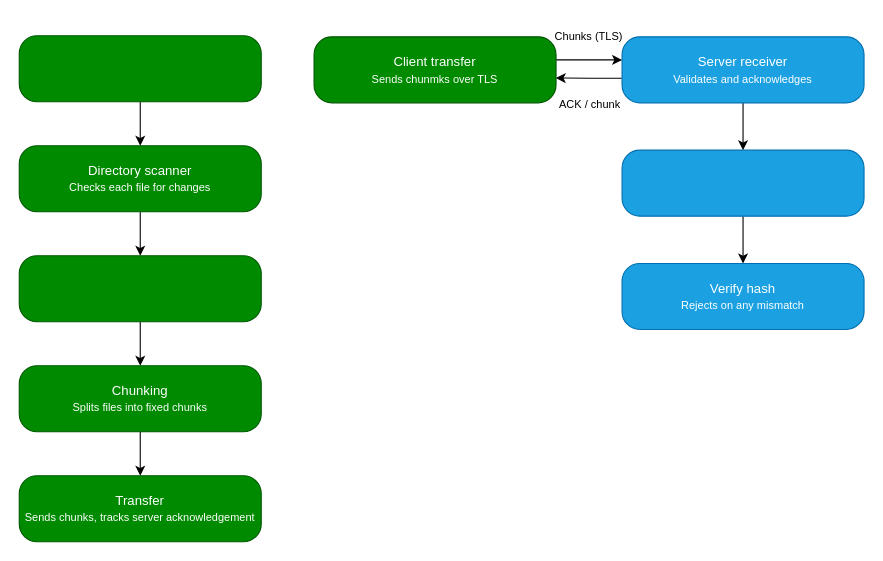
Image size: 883x561. Some labels were removed from this diagram. Here are the shapes that lost their labels. From the top down, the box of each, then its label:
(18, 35, 261, 102): Watched directories Folders being monitored
(621, 149, 864, 216): Reassemble file Combines all arrived chunks
(18, 255, 261, 322): Change detection Compares modification time, then hash
